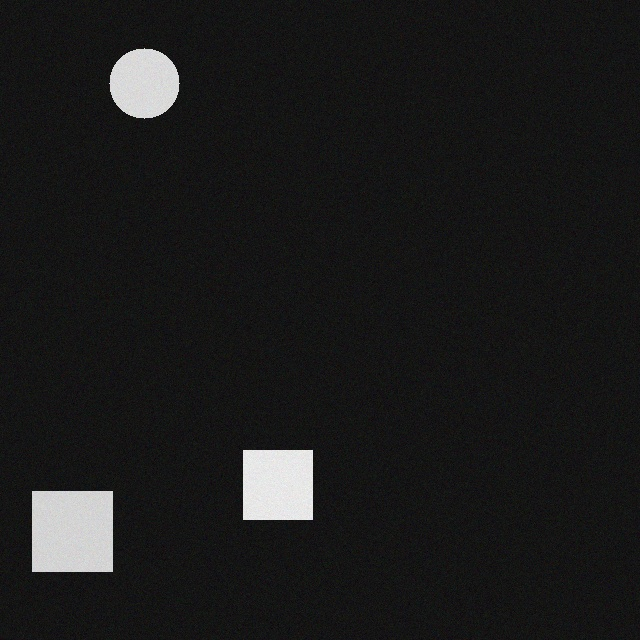circle: (106, 53, 176, 123)
square: (29, 496, 109, 576), (240, 455, 309, 524)
